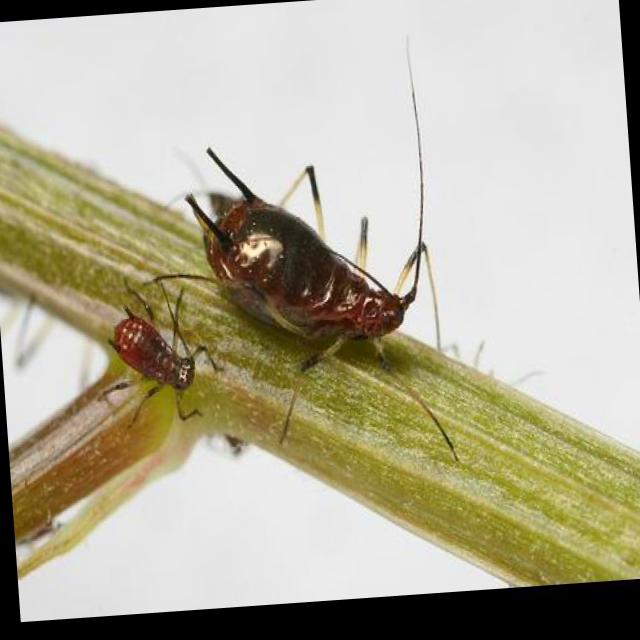Aphids: (172, 112, 489, 482), (94, 282, 230, 440)
